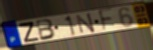1: (64, 15, 78, 37)
6: (117, 6, 136, 29)
B: (35, 18, 58, 41)
F: (97, 7, 115, 34)
N: (75, 12, 97, 34)
Z: (17, 21, 41, 43)
